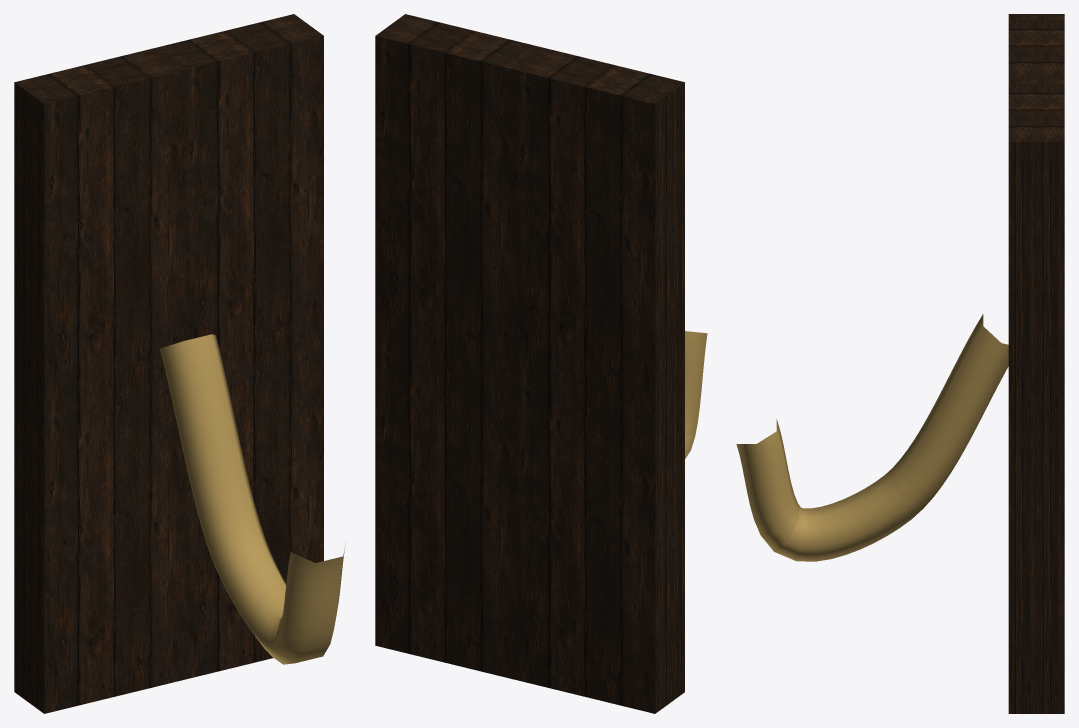
3 views of the same model, side by side, from view 1: azimuth 30°, elevation 25°; view 2: azimuth 150°, elevation 25°; view 3: azimuth 270°, elevation 25° (orthographic). The views are drawn at different scales.
Parts seen in each view (by area): view 1: a-hook5; view 2: a-hook5; view 3: a-hook5.
Boxes of the visible parts, left/top/right/bottom form: a-hook5: left=14, top=14, right=345, bottom=713; a-hook5: left=375, top=14, right=707, bottom=713; a-hook5: left=736, top=14, right=1064, bottom=713.
Size of the model in its own units: 0.12 by 0.25 by 0.13.
Materials: 2 (1 with a texture image).
